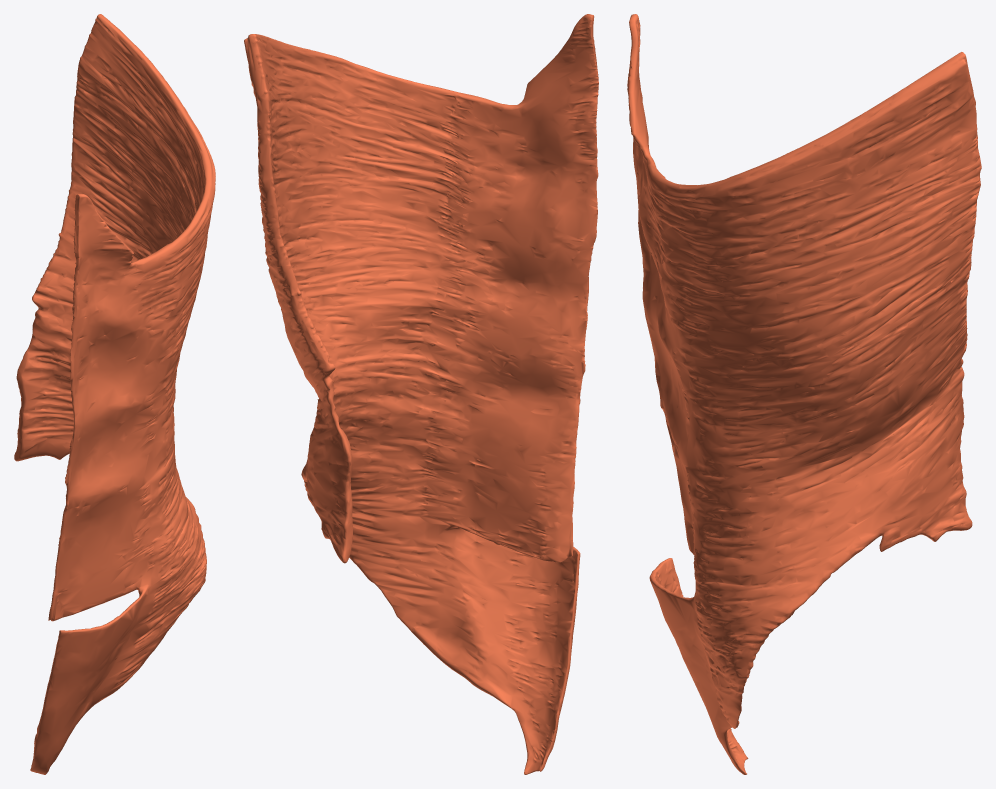
File: Transversus_abdominis_left.glb
3 views of the same model, side by side, from view 1: azimuth 30°, elevation 25°; view 2: azimuth 150°, elevation 25°; view 3: azimuth 270°, elevation 25° (orthographic). The views are drawn at different scales.
Visible parts, largest first — view 1: Transversus_abdominis_muscle.l_Generated_Mesh_From_X3D.140; view 2: Transversus_abdominis_muscle.l_Generated_Mesh_From_X3D.140; view 3: Transversus_abdominis_muscle.l_Generated_Mesh_From_X3D.140.
Part boxes in pixels (<box>): Transversus_abdominis_muscle.l_Generated_Mesh_From_X3D.140: <box>14,14,215,774</box>; Transversus_abdominis_muscle.l_Generated_Mesh_From_X3D.140: <box>244,14,598,774</box>; Transversus_abdominis_muscle.l_Generated_Mesh_From_X3D.140: <box>627,14,981,774</box>.
Bounding box in the file's own units: 0.1295 × 0.4211 × 0.1674.
